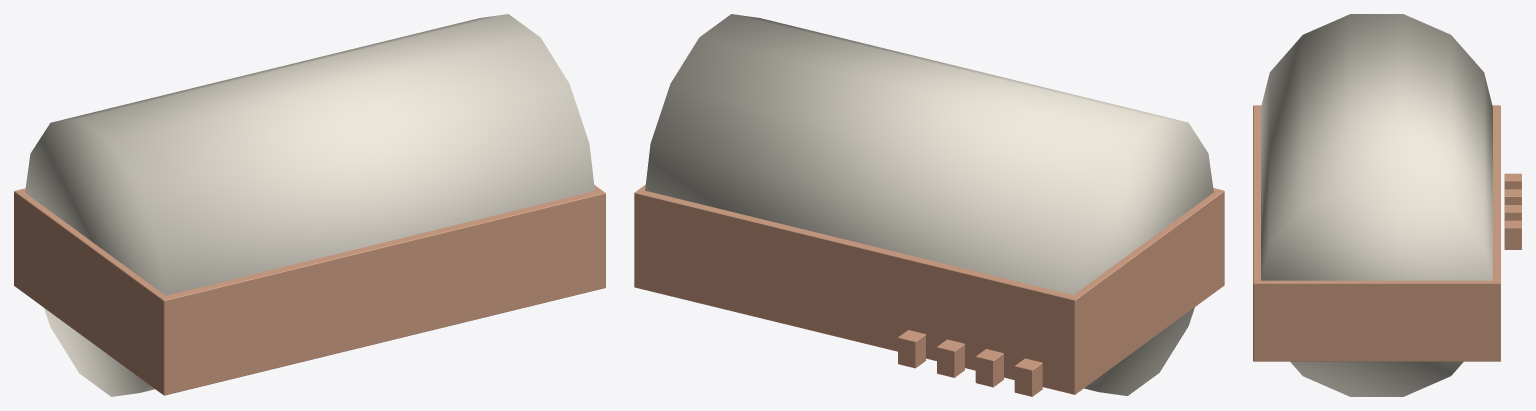
File: bath_hall.glb
The picture shows the model from 3 angles, left to right: view 1: azimuth 30°, elevation 25°; view 2: azimuth 150°, elevation 25°; view 3: azimuth 270°, elevation 25°; orthographic projection. The views are drawn at different scales.
Parts seen in each view (by area): view 1: vault, wall_-1, end_-1, end_1; view 2: vault, wall_1, end_-1, end_1, furnace_0, furnace_1, furnace_3, furnace_2; view 3: vault, end_1, wall_1, wall_-1, furnace_3, furnace_0, furnace_2, furnace_1.
Part boxes in pixels (<box>): vault: <box>25,14,594,396</box>; wall_-1: <box>155,186,605,395</box>; end_-1: <box>14,188,178,395</box>; end_1: <box>591,185,605,286</box>; vault: <box>645,14,1213,395</box>; wall_1: <box>634,192,1083,394</box>; end_-1: <box>1060,188,1224,394</box>; end_1: <box>634,184,653,290</box>; furnace_0: <box>1014,358,1042,396</box>; furnace_1: <box>975,349,1003,387</box>; furnace_3: <box>898,330,925,368</box>; furnace_2: <box>937,339,964,377</box>; vault: <box>1261,14,1492,396</box>; end_1: <box>1253,277,1500,361</box>; wall_1: <box>1486,105,1500,361</box>; wall_-1: <box>1253,105,1267,361</box>; furnace_3: <box>1504,220,1521,249</box>; furnace_0: <box>1504,173,1521,189</box>; furnace_2: <box>1504,205,1521,220</box>; furnace_1: <box>1504,189,1521,204</box>.
Size of the model in its own units: 34 by 18.72 by 21.7.
